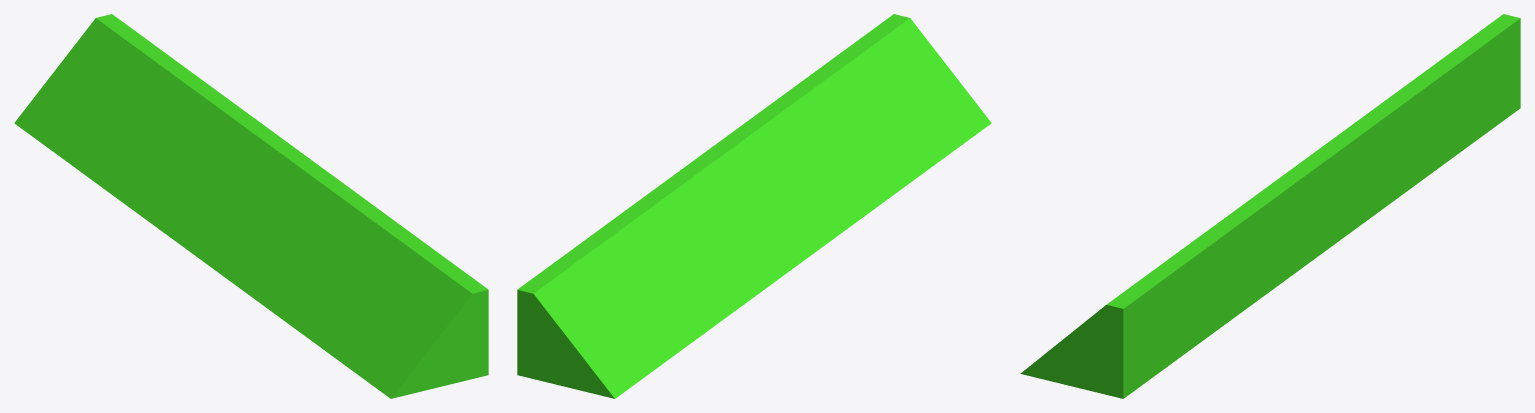
Rendered from molding[Bottom]-C.fbx.
The picture shows the model from 3 angles, left to right: view 1: azimuth 30°, elevation 25°; view 2: azimuth 150°, elevation 25°; view 3: azimuth 330°, elevation 25°; orthographic projection. The views are drawn at different scales.
Visible parts, largest first — view 1: molding[Bottom]-C[EX]; view 2: molding[Bottom]-C[EX]; view 3: molding[Bottom]-C[EX].
Boxes of the visible parts, x1=… form: molding[Bottom]-C[EX]: x1=14, y1=14, x2=488, y2=398; molding[Bottom]-C[EX]: x1=517, y1=14, x2=991, y2=398; molding[Bottom]-C[EX]: x1=1020, y1=14, x2=1520, y2=398.
Bounding box in the file's own units: 0.6 × 0.5 × 4.
